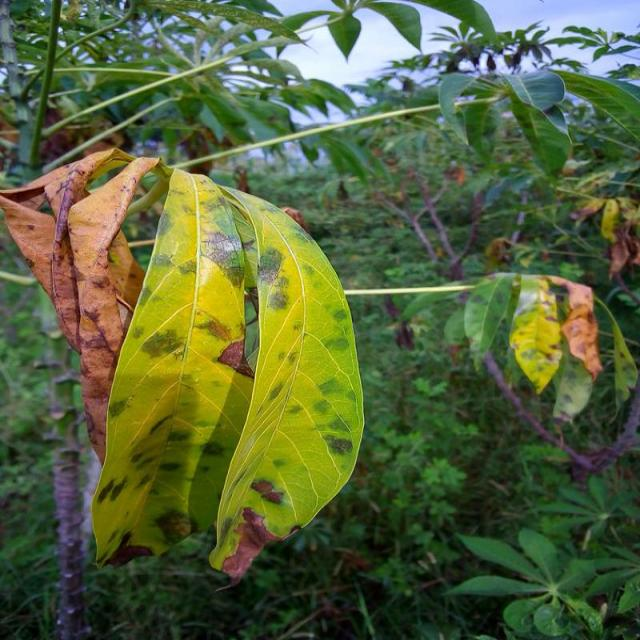cassava leaf: (90, 166, 366, 584)
